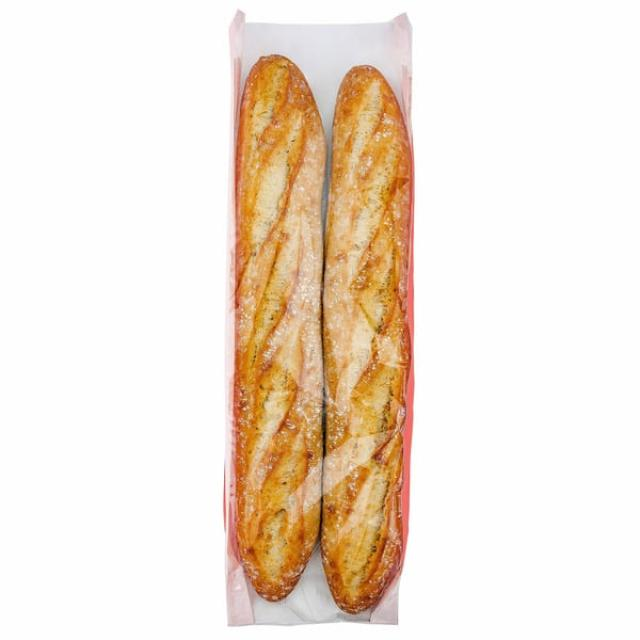Baguette: (321, 65, 410, 611), (235, 55, 324, 599)
